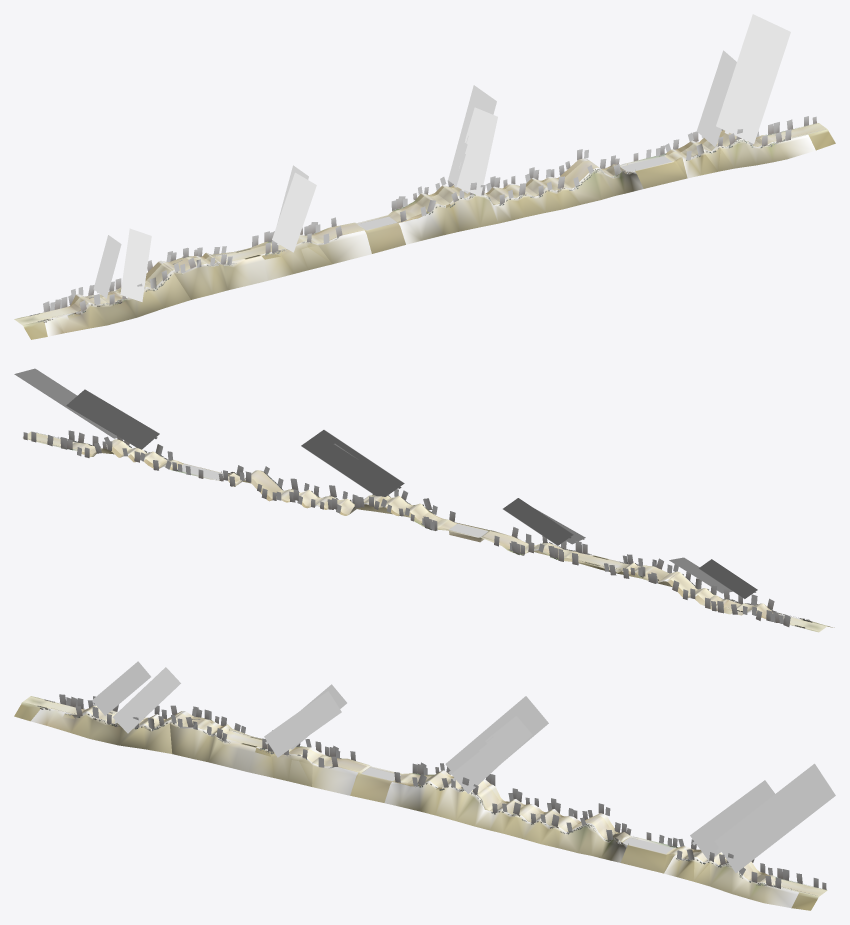
The model's file is Beach_12.fbx.
3 views of the same model, one above another, from view 1: azimuth 30°, elevation 25°; view 2: azimuth 150°, elevation 25°; view 3: azimuth 330°, elevation 25° (orthographic).
Parts seen in each view (by area): view 1: Mountain_01, Light_01, Tree_01, Ground_01, Road_01, Sea_01; view 2: Light_01, Tree_01, Ground_01, Road_01, Sea_01; view 3: Mountain_01, Light_01, Tree_01, Road_01, Ground_01, Sea_01.
Part boxes in pixels (bbox=[...]): Mountain_01: bbox=[44, 134, 815, 336]; Light_01: bbox=[93, 14, 790, 301]; Tree_01: bbox=[43, 116, 816, 322]; Ground_01: bbox=[15, 123, 826, 325]; Road_01: bbox=[14, 123, 835, 339]; Sea_01: bbox=[358, 156, 671, 230]; Light_01: bbox=[14, 368, 757, 598]; Tree_01: bbox=[23, 430, 809, 626]; Ground_01: bbox=[27, 432, 826, 631]; Road_01: bbox=[22, 433, 834, 632]; Sea_01: bbox=[177, 464, 487, 537]; Mountain_01: bbox=[31, 708, 798, 907]; Light_01: bbox=[92, 661, 835, 872]; Tree_01: bbox=[40, 694, 826, 889]; Road_01: bbox=[14, 696, 827, 910]; Ground_01: bbox=[23, 696, 826, 896]; Sea_01: bbox=[362, 767, 672, 853].
Bounding box in the file's own units: 72535 × 9915 × 7040.
